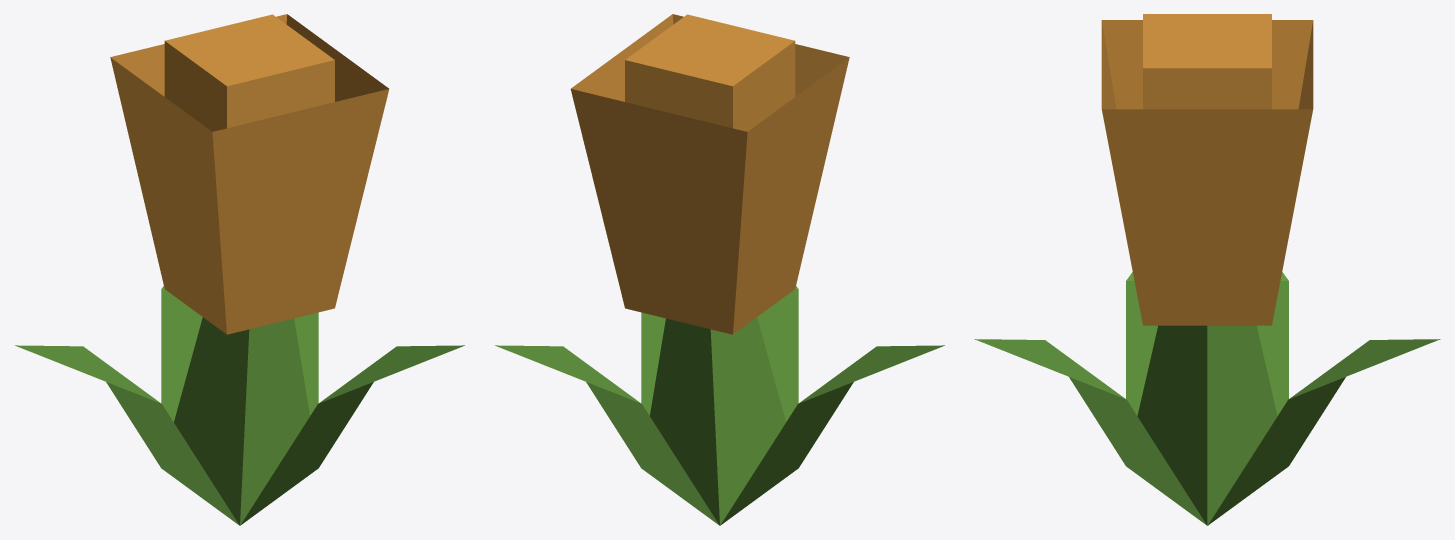
File: flower_yellowA.glb
The picture shows the model from 3 angles, left to right: view 1: azimuth 30°, elevation 25°; view 2: azimuth 150°, elevation 25°; view 3: azimuth 270°, elevation 25°; orthographic projection. The views are drawn at different scales.
Visible parts, largest first — view 1: flower_yellowA; view 2: flower_yellowA; view 3: flower_yellowA.
Part boxes in pixels (x1=…): flower_yellowA: x1=15, y1=14, x2=464, y2=525; flower_yellowA: x1=495, y1=14, x2=944, y2=525; flower_yellowA: x1=974, y1=14, x2=1440, y2=525.
Size of the model in its own units: 0.1591 by 0.1925 by 0.1811.
